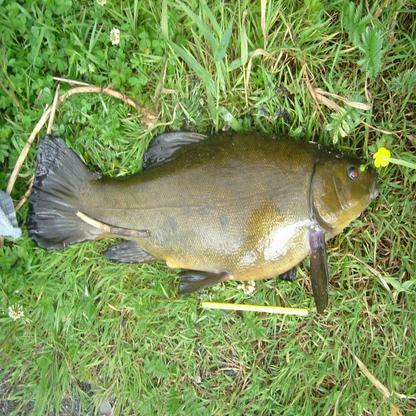fish: (22, 123, 380, 316)
